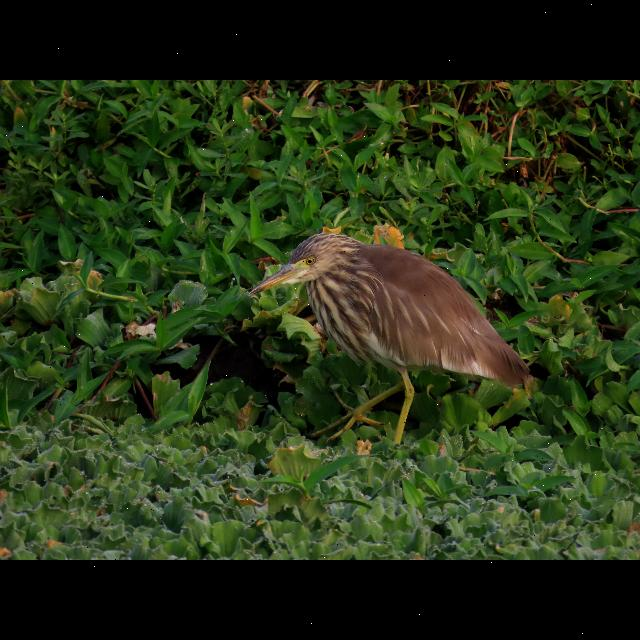heron: (237, 226, 545, 458)
